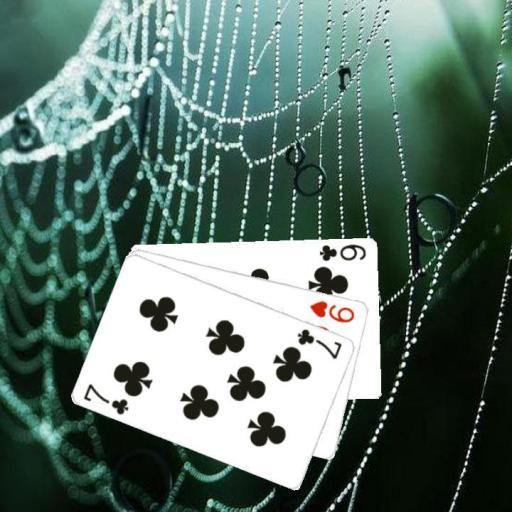6C: (317, 241, 369, 263)
7C: (80, 380, 131, 416), (295, 325, 345, 361)
9H: (307, 298, 357, 325)
